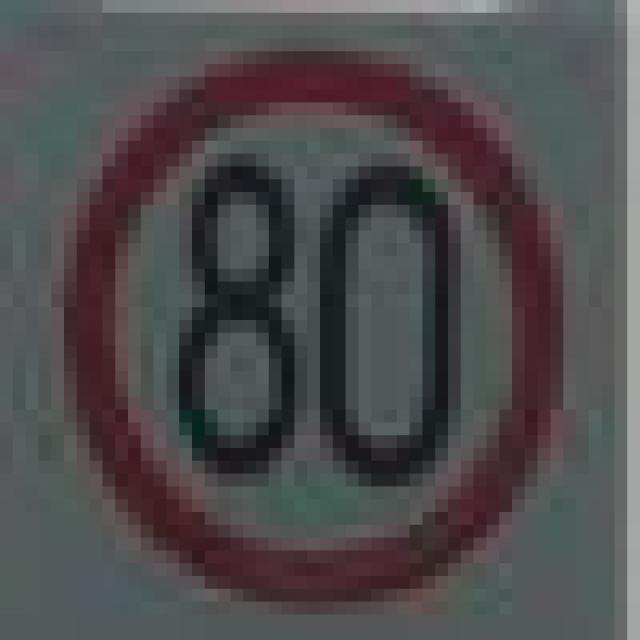speed_limit_50: (52, 51, 550, 589)
